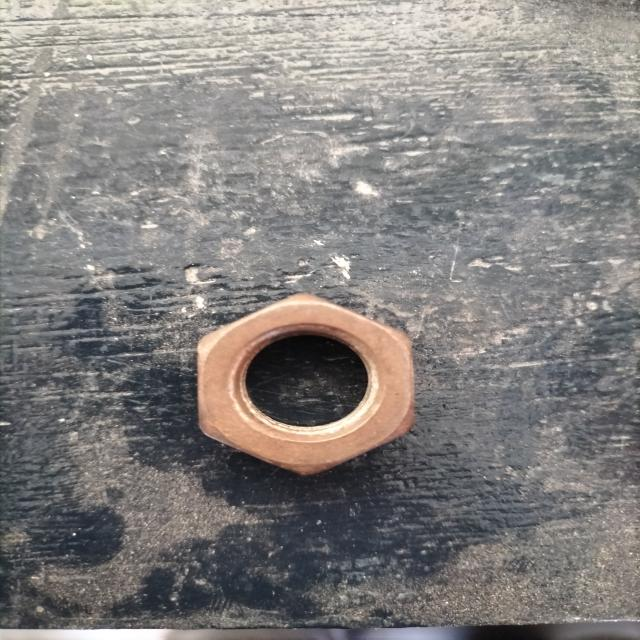nuts: (196, 293, 416, 476)
